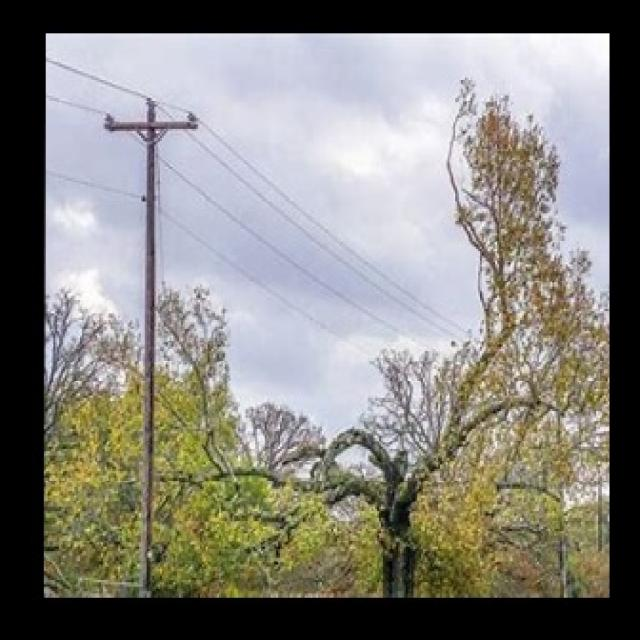utility poles: (113, 70, 195, 594)
